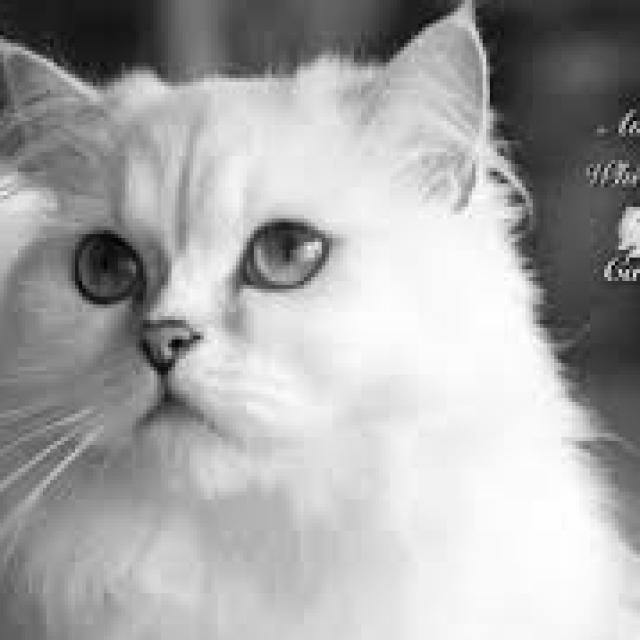british: (0, 0, 476, 531)
